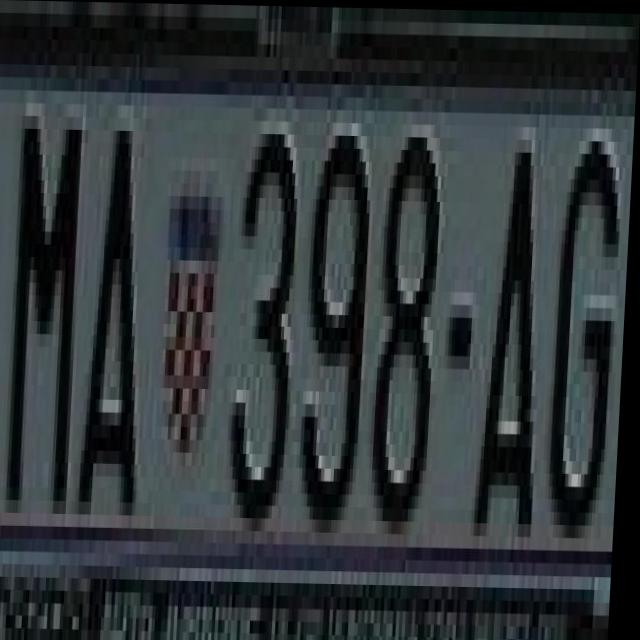3: (229, 132, 302, 543)
8: (374, 96, 456, 546)
9: (302, 121, 375, 532)
A: (479, 124, 556, 548), (87, 91, 155, 515)
G: (559, 100, 627, 524)
M: (4, 90, 95, 526)
